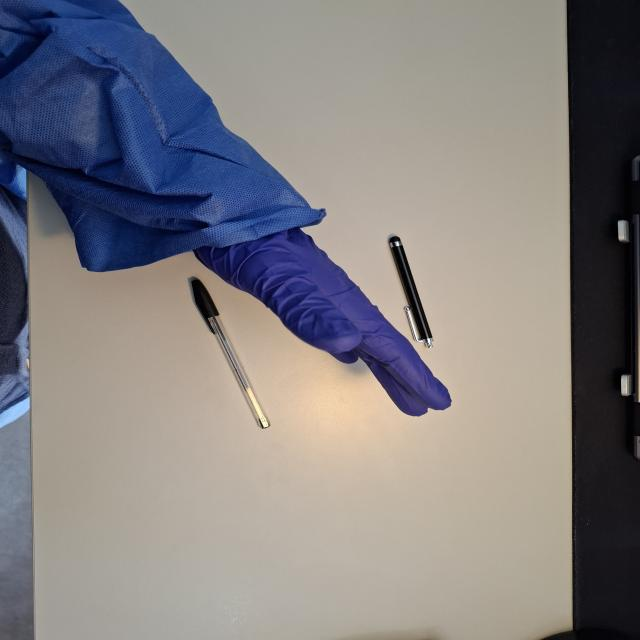glove_on: (186, 209, 460, 419)
